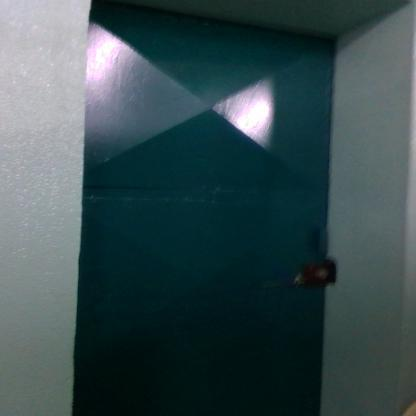door: (69, 0, 336, 415)
